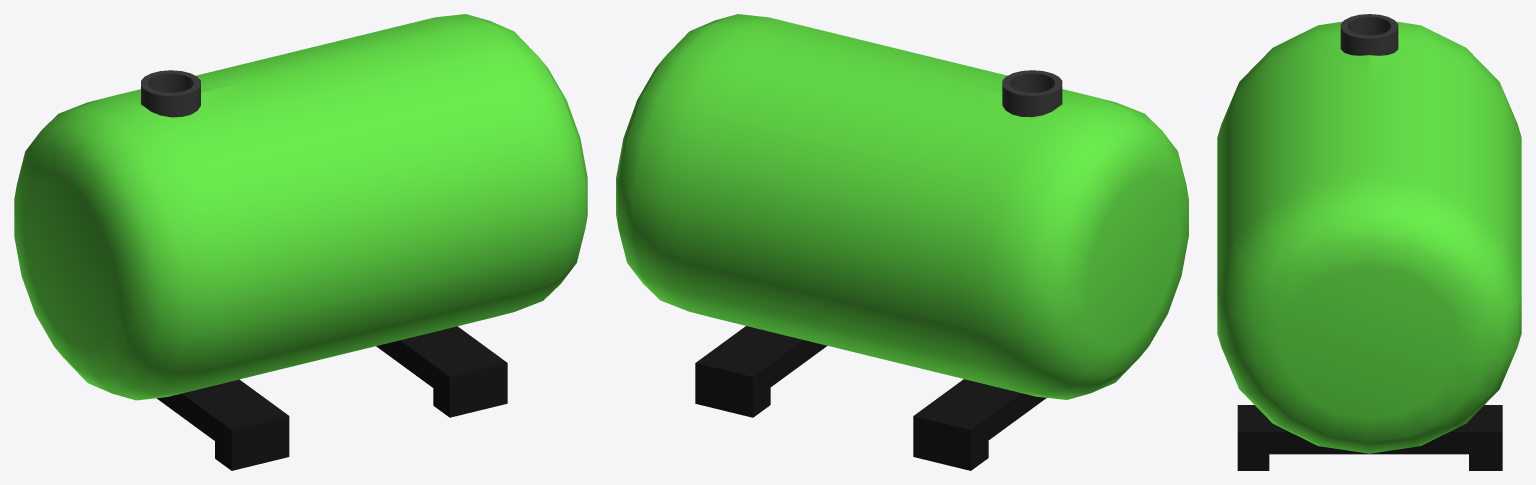
Rendered from MotorPEQUEÑO.fbx.
The picture shows the model from 3 angles, left to right: view 1: azimuth 30°, elevation 25°; view 2: azimuth 150°, elevation 25°; view 3: azimuth 270°, elevation 25°; orthographic projection. The views are drawn at different scales.
Visible parts, largest first — view 1: Cylinder001; view 2: Cylinder001; view 3: Cylinder001.
Boxes of the visible parts, x1=… form: Cylinder001: x1=14, y1=14, x2=587, y2=470; Cylinder001: x1=616, y1=14, x2=1188, y2=470; Cylinder001: x1=1217, y1=14, x2=1521, y2=470.
Size of the model in its own units: 18.29 by 12.71 by 10.95.
